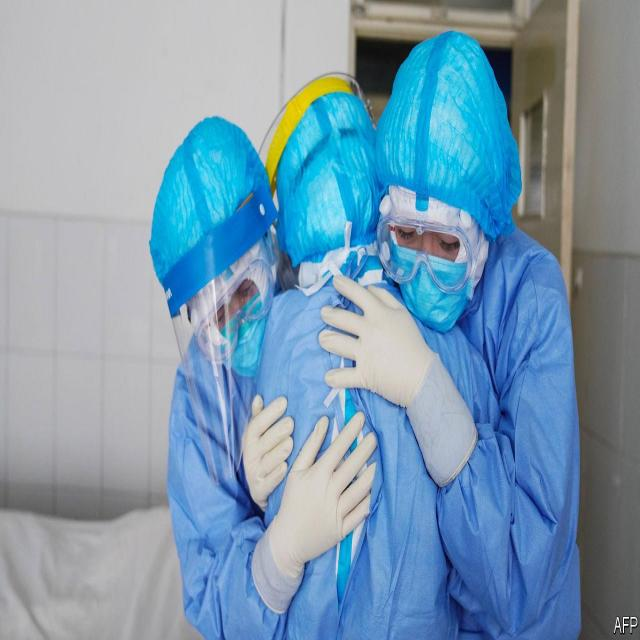Face_Shield: (166, 202, 294, 489)
Gloves: (315, 270, 480, 486), (251, 410, 377, 613), (242, 391, 294, 509)
Goggles: (377, 207, 480, 301), (196, 262, 277, 358)
